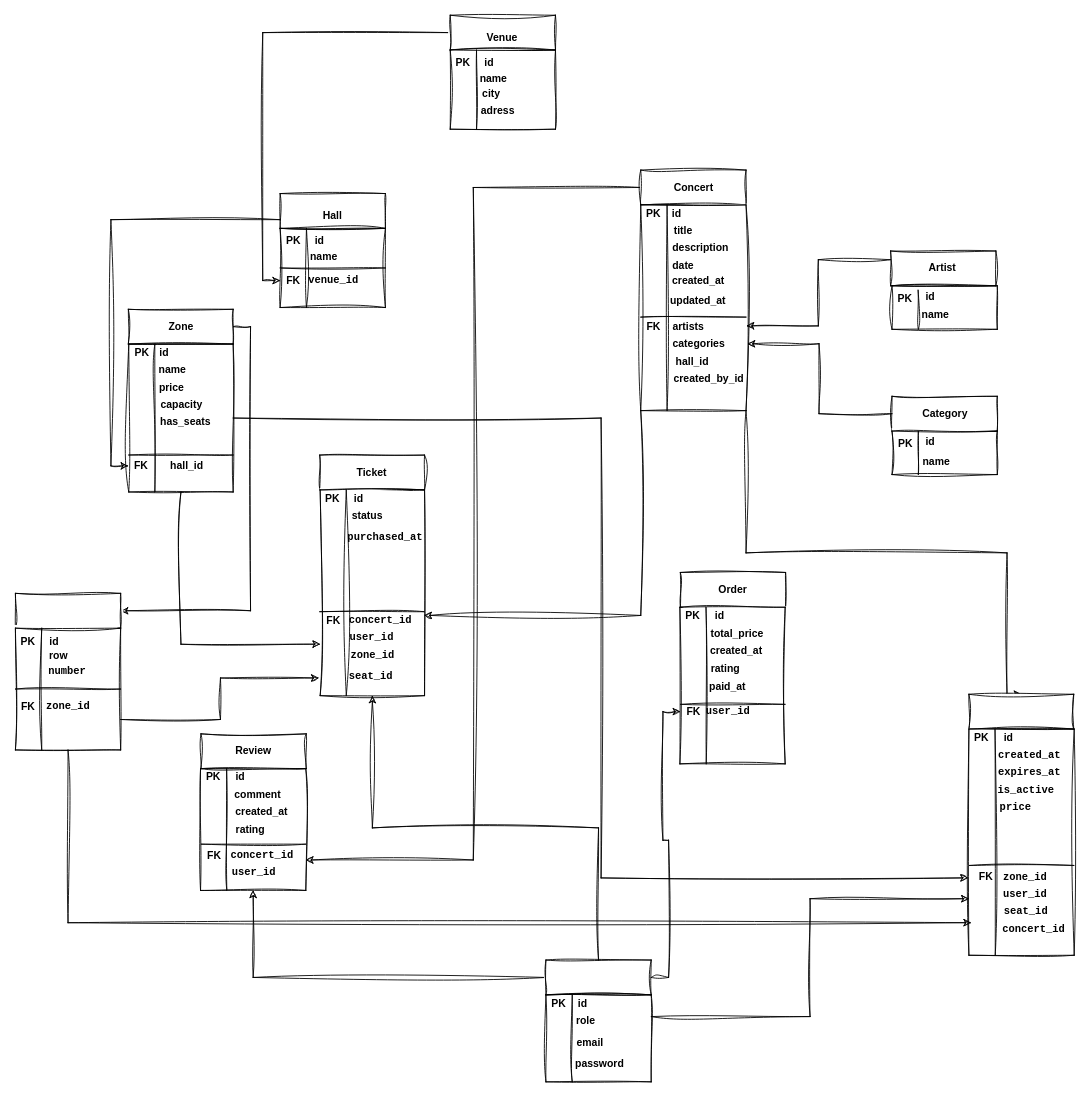
Image size: 1090x1098. Some labels were removed from this diagram. Here are the shapes that lost their labels. From the top down, the box of each, then its label:
(15, 592, 121, 628): Seat
(968, 693, 1074, 729): Reservation
(545, 959, 651, 995): User
